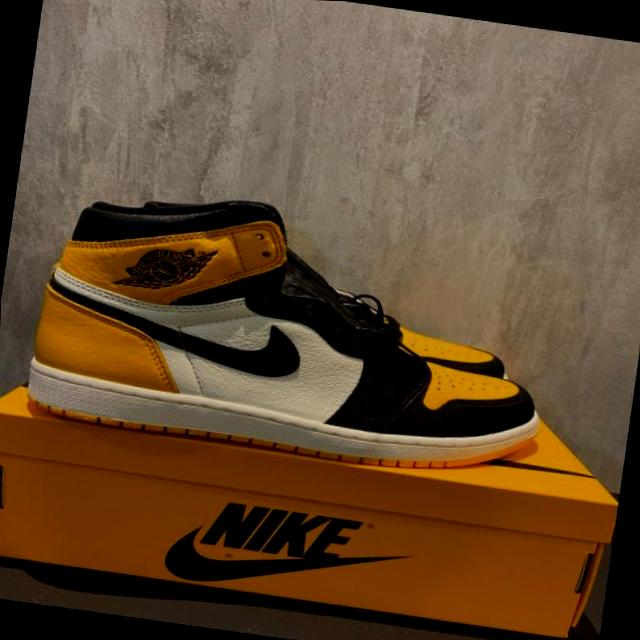nike_original_airforce: (18, 172, 570, 488), (149, 190, 538, 386)
